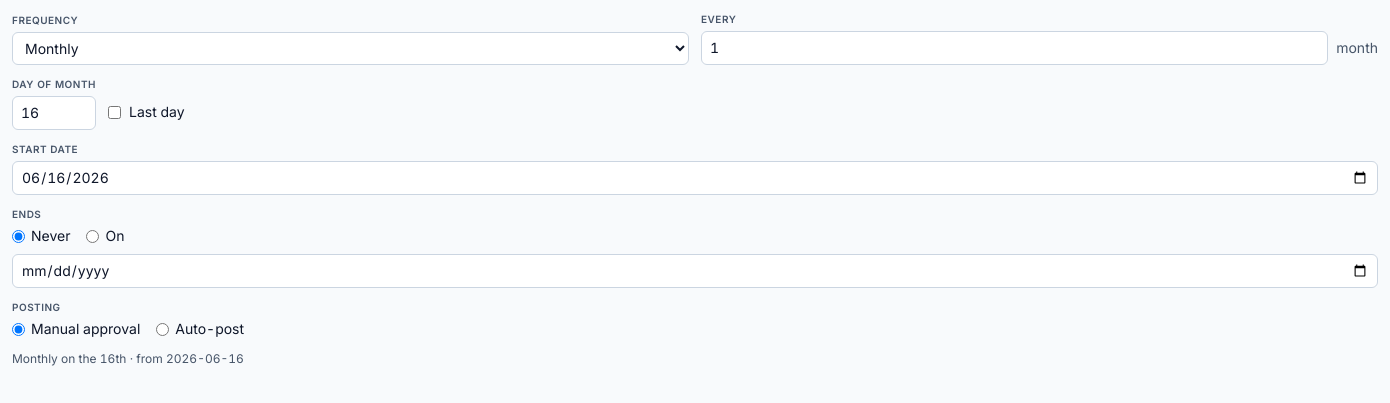
Test: RecurrenceBuilder › shows a short-month hint only when day-of-month is 29-31
The image size is (1390, 403).
Expected: the text "skipped in shorter months" is not shown
Step 1. Replace the text in the number field named "Day of month" with "31" → (54, 113), box [12,96,96,130]
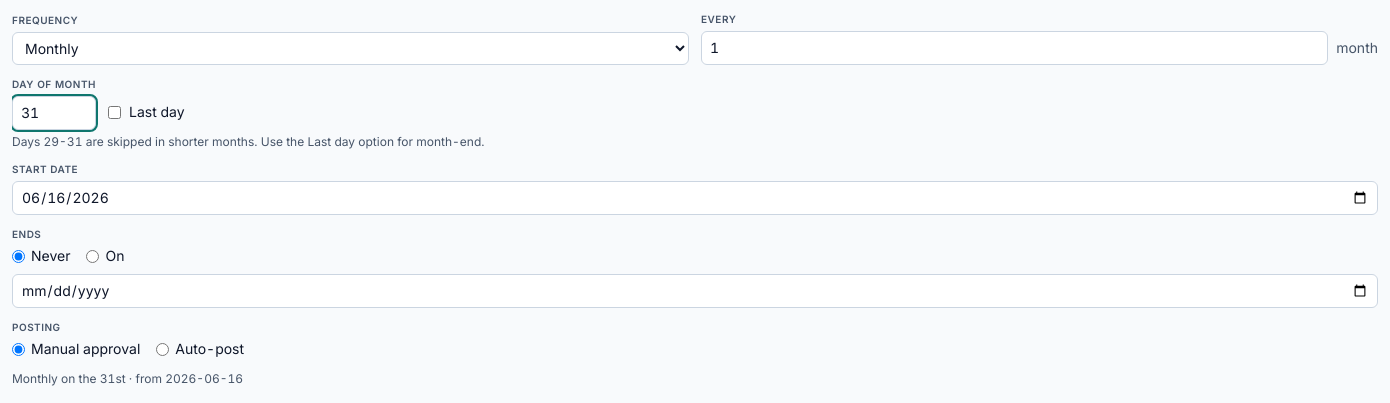
Expected: the text "skipped in shorter months" is shown, [12,134,484,149]
